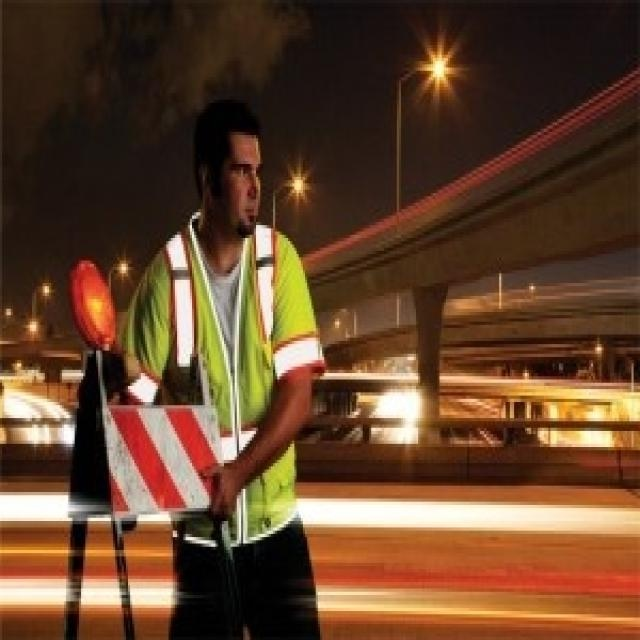Con_Chaleco: (165, 227, 291, 550)
Sin_Casco_Mascarrilla: (193, 112, 264, 222)
